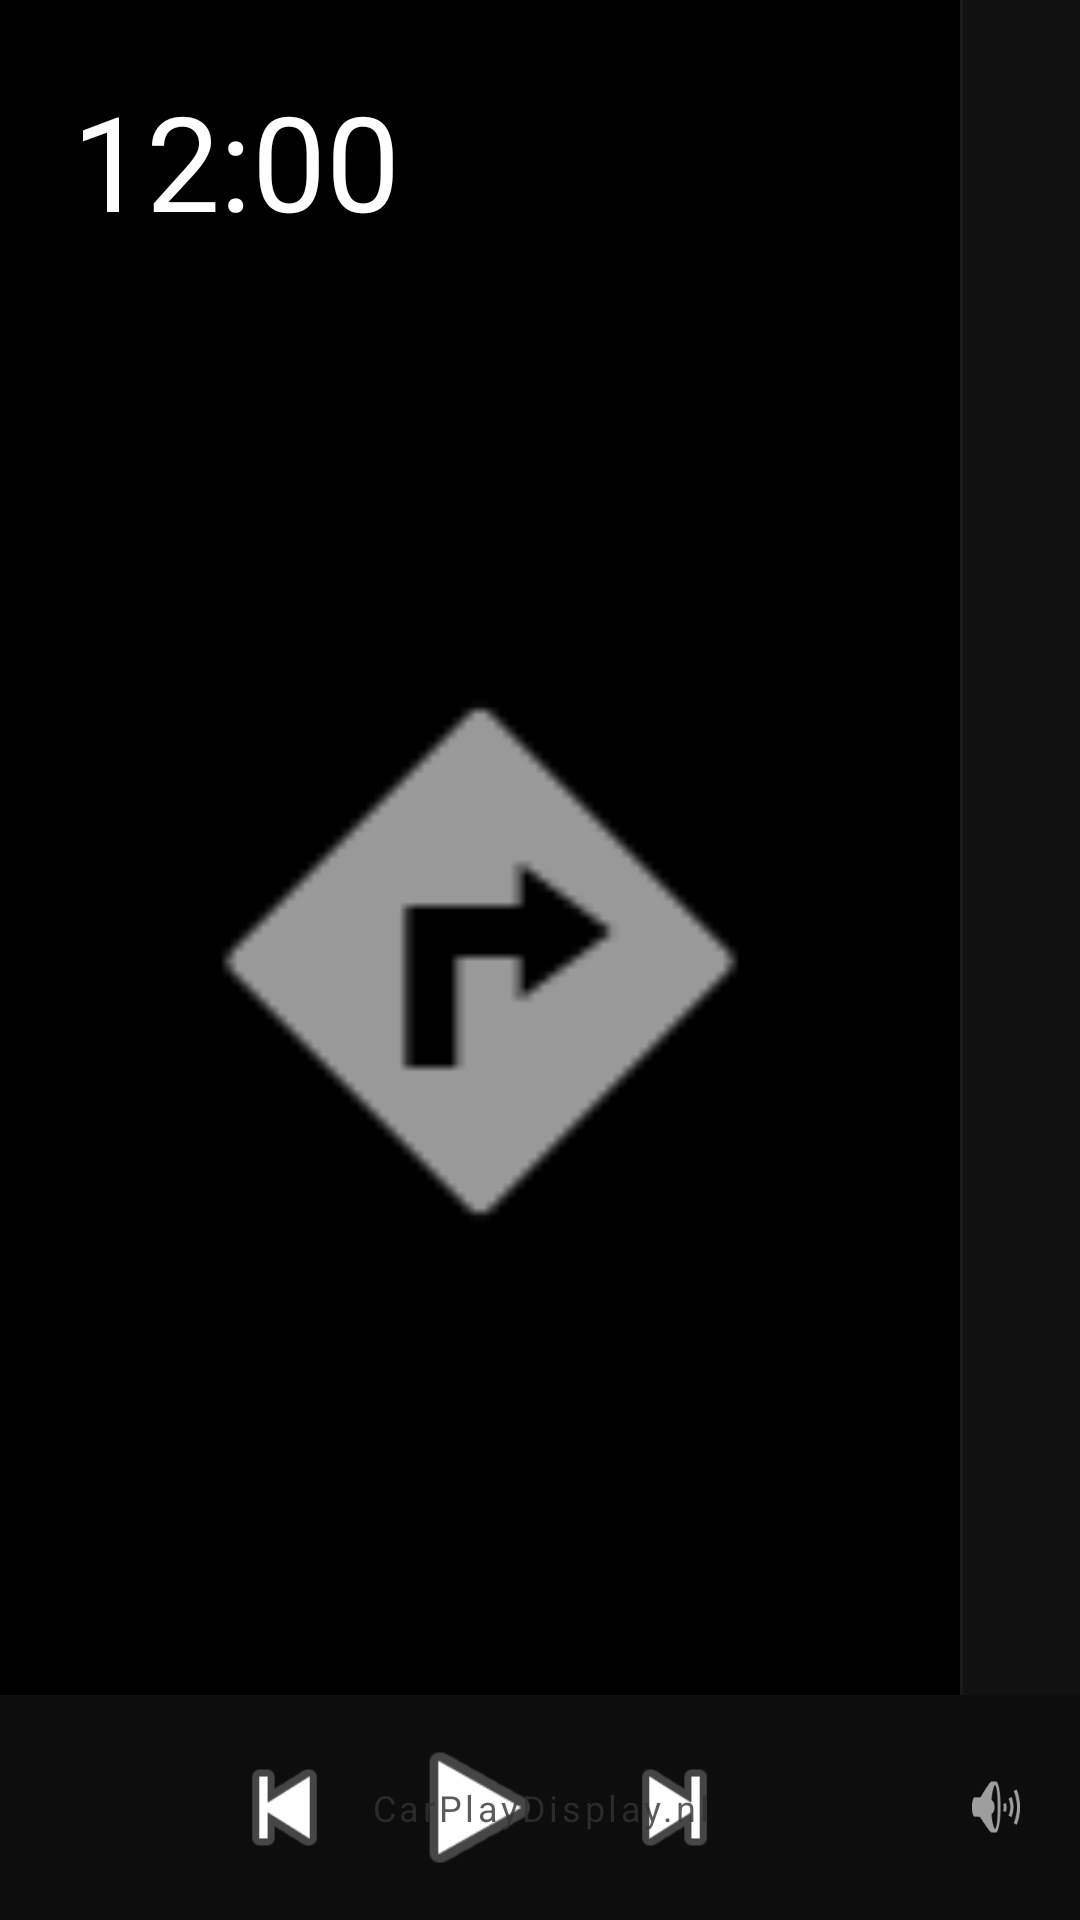

Where to tap for icons on this 1080w x 1920h app screen, as [x,y]:
next: [659,1807]
previous: [284,1807]
